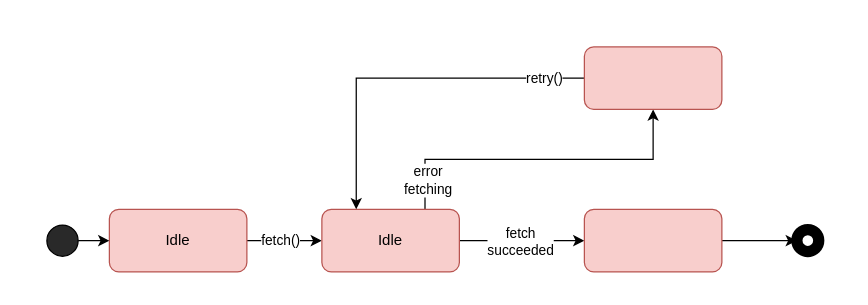
This 868x305 diagram has some shape labels left out. The centre of each missing label's shape, as x and y in pixels:
"Error" belongs at point 652,77.
"Success" belongs at point 652,240.
